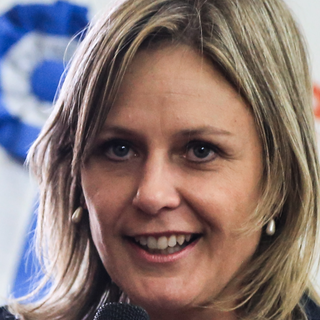eye: (169, 136, 229, 164), (92, 135, 143, 165)
